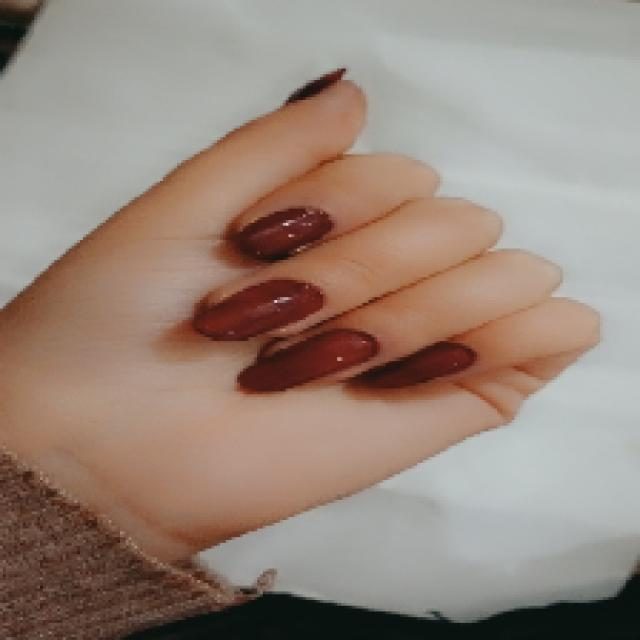Nail: (238, 330, 378, 391), (195, 279, 324, 339), (231, 206, 334, 260), (359, 341, 476, 388), (285, 68, 346, 104)
